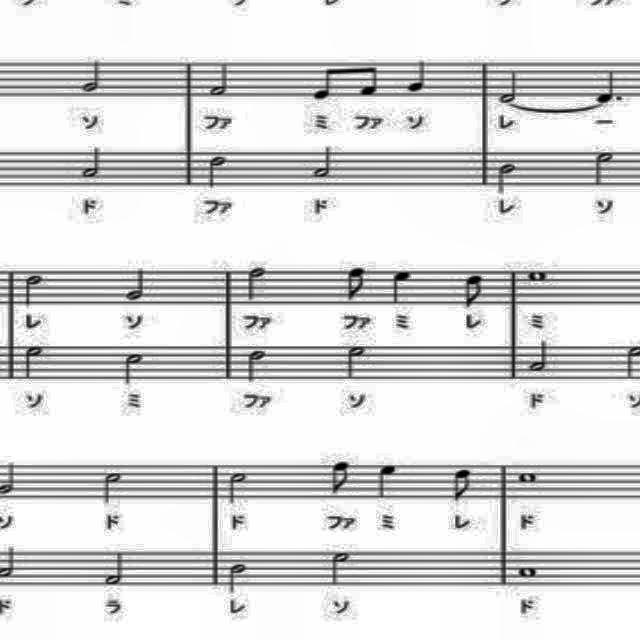Eighth-note: (307, 51, 343, 105), (351, 54, 381, 102), (456, 270, 488, 314), (340, 264, 372, 304), (324, 455, 354, 497), (450, 466, 474, 504)
Full-note: (524, 266, 552, 284), (517, 468, 539, 488), (515, 564, 537, 580)
Half-note: (117, 346, 151, 390), (588, 146, 620, 190), (99, 546, 131, 590), (338, 344, 369, 388), (74, 58, 108, 98), (18, 342, 50, 382), (240, 348, 272, 388), (121, 260, 147, 308), (206, 58, 234, 102), (244, 263, 270, 309), (78, 142, 106, 184), (312, 142, 340, 184), (527, 337, 555, 379), (492, 163, 524, 199), (492, 66, 520, 106), (202, 151, 230, 191), (226, 468, 252, 510), (98, 470, 125, 508), (330, 549, 354, 589), (20, 271, 44, 309), (225, 562, 251, 594)
Quarter-dot: (594, 67, 630, 105)
Quarter-note: (372, 460, 406, 500), (401, 55, 433, 97), (384, 268, 416, 306)
